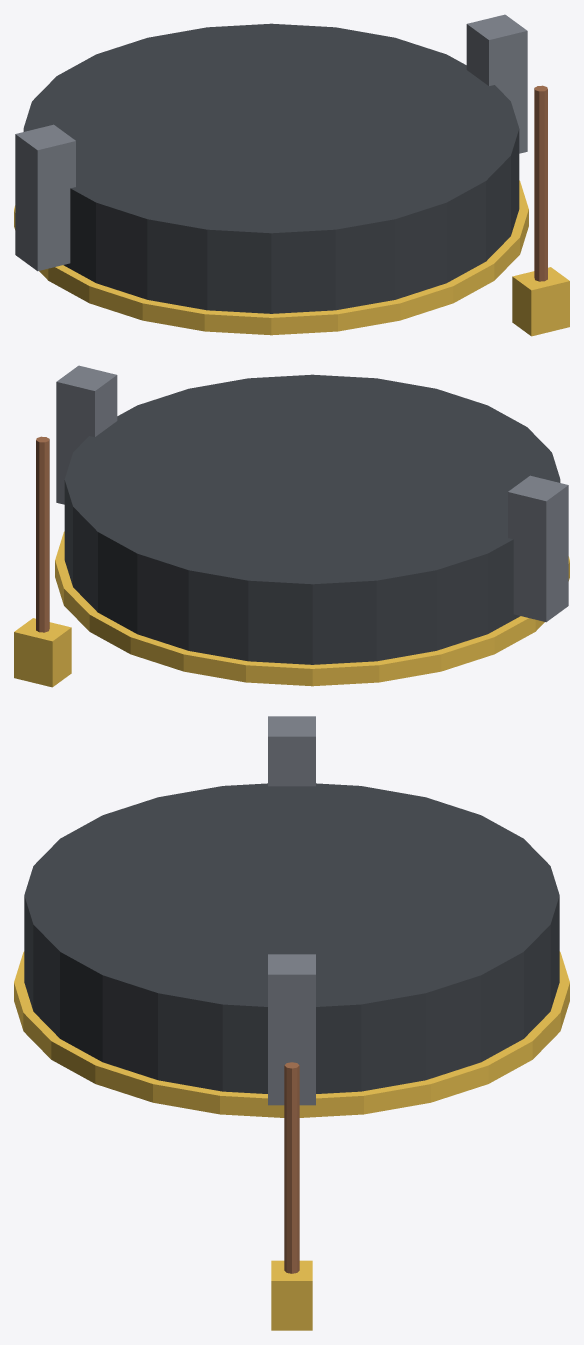
Rendered from prop_ceiling_fan_duct.glb.
The picture shows the model from 3 angles, top to bottom: view 1: azimuth 30°, elevation 25°; view 2: azimuth 150°, elevation 25°; view 3: azimuth 270°, elevation 25°; orthographic projection. The views are drawn at different scales.
Parts seen in each view (by area): view 1: DuctShroudOuter, DuctHazardRing, DuctMountStrutL, DuctMountStrutR, HoistHookBlock, HoistChainRod; view 2: DuctShroudOuter, DuctHazardRing, DuctMountStrutL, DuctMountStrutR, HoistHookBlock, HoistChainRod; view 3: DuctShroudOuter, DuctHazardRing, DuctMountStrutR, DuctMountStrutL, HoistChainRod, HoistHookBlock.
Part boxes in pixels (x1=…): DuctShroudOuter: x1=23, y1=23, x2=519, y2=313; DuctHazardRing: x1=14, y1=180, x2=528, y2=335; DuctMountStrutL: x1=15, y1=124, x2=75, y2=271; DuctMountStrutR: x1=466, y1=14, x2=527, y2=153; HoistHookBlock: x1=512, y1=267, x2=569, y2=336; HoistChainRod: x1=534, y1=85, x2=547, y2=281; DuctShroudOuter: x1=64, y1=374, x2=560, y2=664; DuctHazardRing: x1=55, y1=531, x2=569, y2=686; DuctMountStrutL: x1=508, y1=475, x2=568, y2=622; DuctMountStrutR: x1=56, y1=365, x2=117, y2=504; HoistHookBlock: x1=14, y1=618, x2=71, y2=687; HoistChainRod: x1=36, y1=436, x2=49, y2=632; DuctShroudOuter: x1=24, y1=783, x2=559, y2=1093; DuctHazardRing: x1=14, y1=951, x2=569, y2=1117; DuctMountStrutR: x1=268, y1=954, x2=315, y2=1105; DuctMountStrutL: x1=268, y1=716, x2=315, y2=786; HoistChainRod: x1=284, y1=1062, x2=299, y2=1273; HoistHookBlock: x1=271, y1=1260, x2=312, y2=1330.
Bounding box in the file's own units: 1.94 × 1.07 × 1.62.
